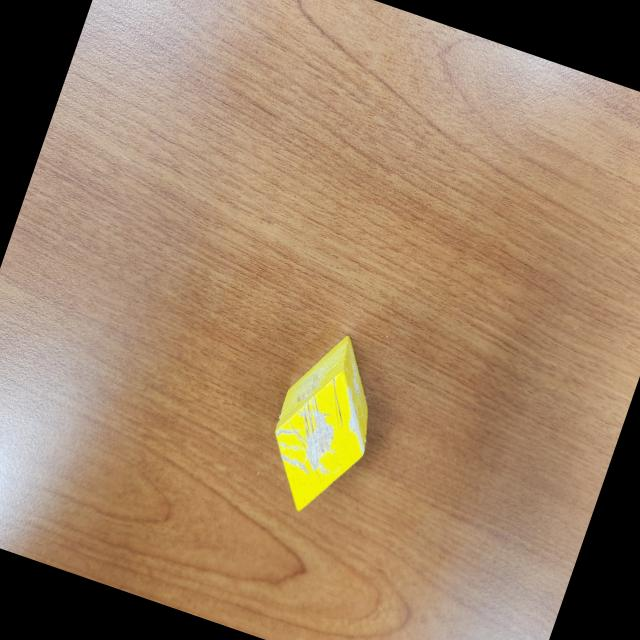broken: (251, 322, 398, 526)
